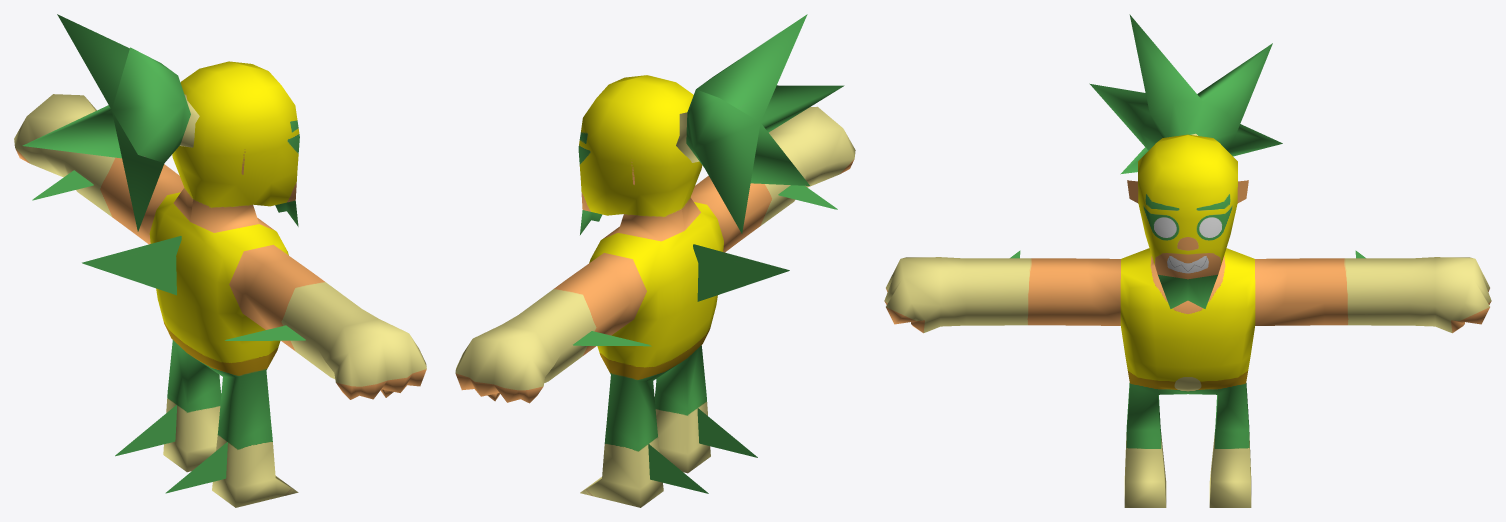
The model's file is PacoV1.glb.
3 views of the same model, side by side, from view 1: azimuth 30°, elevation 25°; view 2: azimuth 150°, elevation 25°; view 3: azimuth 270°, elevation 25° (orthographic). The views are drawn at different scales.
Visible parts, largest first — view 1: Paco_test; view 2: Paco_test; view 3: Paco_test.
Boxes of the visible parts, left/top/right/bottom form: Paco_test: left=14, top=14, right=426, bottom=507; Paco_test: left=455, top=14, right=855, bottom=507; Paco_test: left=884, top=14, right=1491, bottom=507.
Bounding box in the file's own units: 0.9268 × 1.95 × 2.53.
1 material, 1 textured.
